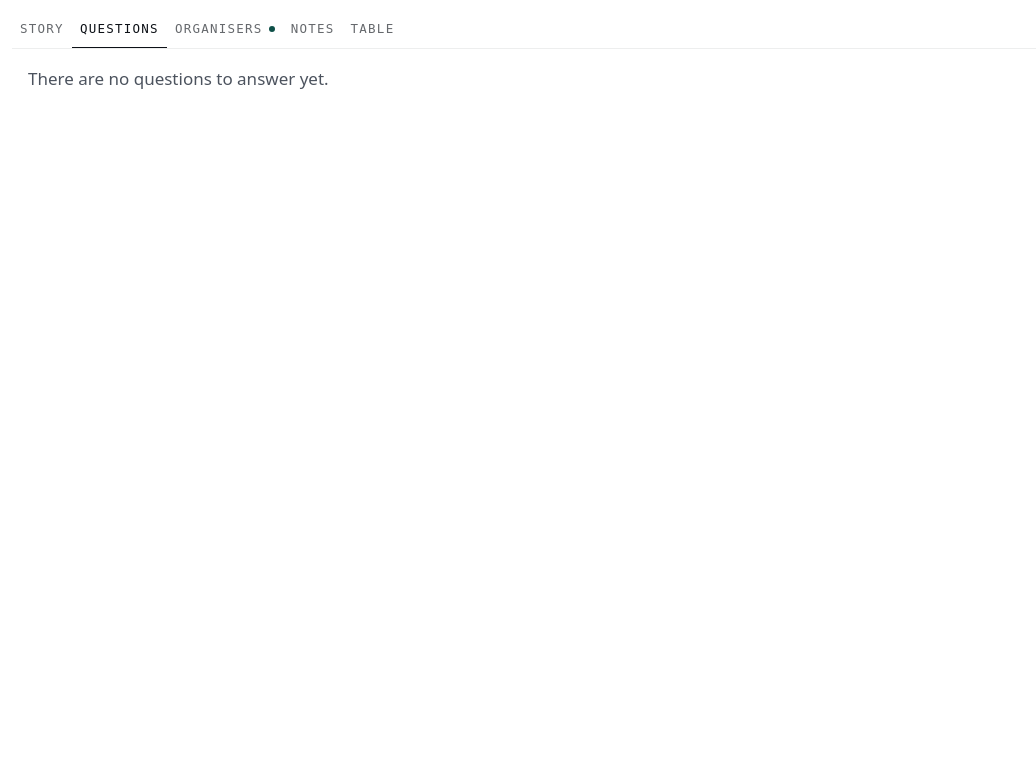
it: the questions to the organisers tab › carries a marker while something new waits unread, and loses it once opened
Click the tab "Organisers": (225, 30) [167,12,283,49]
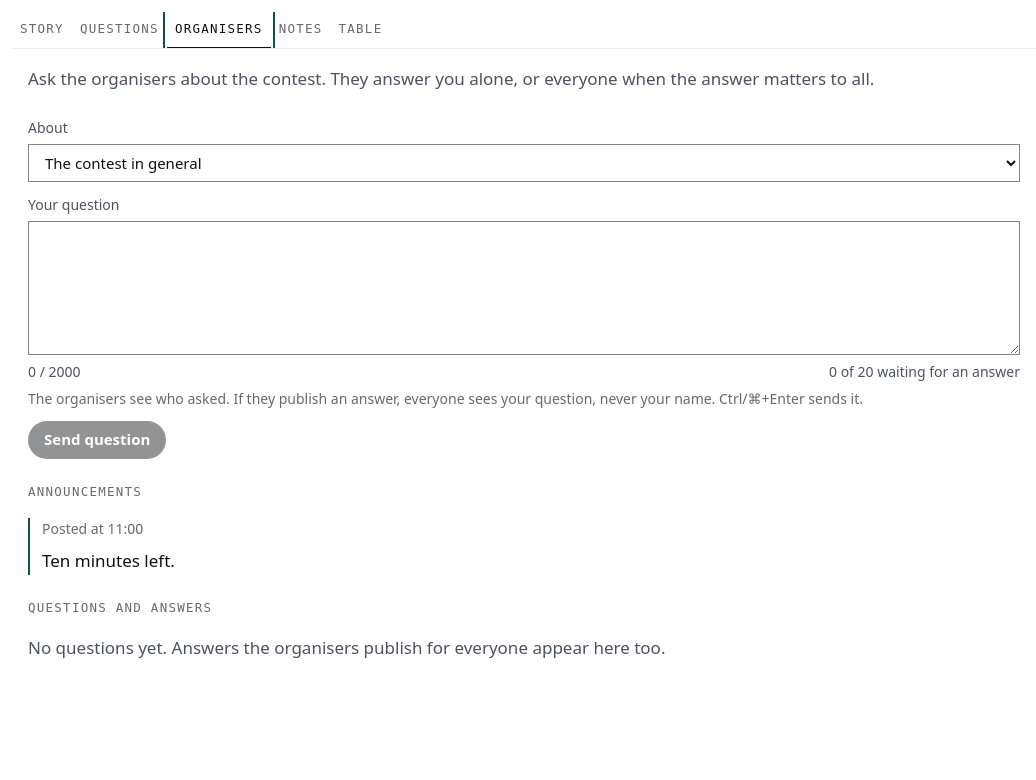
Expected: the element with test id "clarifications-unread" is gone
Expected: the text "Ten minutes left." is shown, [42,549,175,572]
